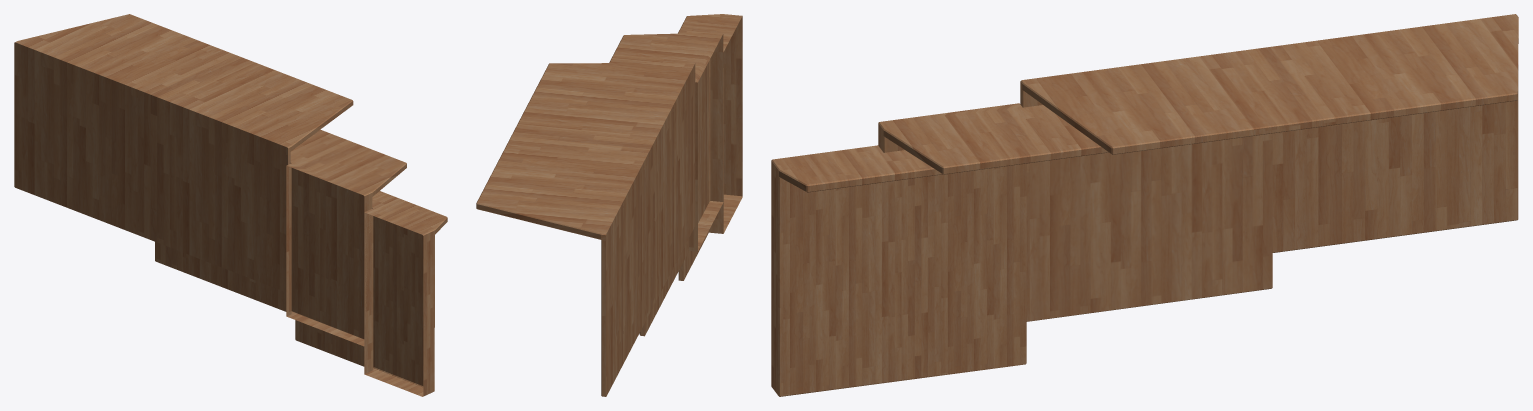
The model's file is Auditorium02_Wooden_Wall03.FBX.
3 views of the same model, side by side, from view 1: azimuth 30°, elevation 25°; view 2: azimuth 150°, elevation 25°; view 3: azimuth 270°, elevation 25° (orthographic). The views are drawn at different scales.
Parts seen in each view (by area): view 1: Auditorium02_Wooden_Wall03; view 2: Auditorium02_Wooden_Wall03; view 3: Auditorium02_Wooden_Wall03.
Boxes of the visible parts, <box> form: Auditorium02_Wooden_Wall03: <box>14,14,447,396</box>; Auditorium02_Wooden_Wall03: <box>476,14,742,396</box>; Auditorium02_Wooden_Wall03: <box>771,14,1518,396</box>.
Size of the model in its own units: 9290 by 8924 by 21971.
Materials: 3 (1 with a texture image).
